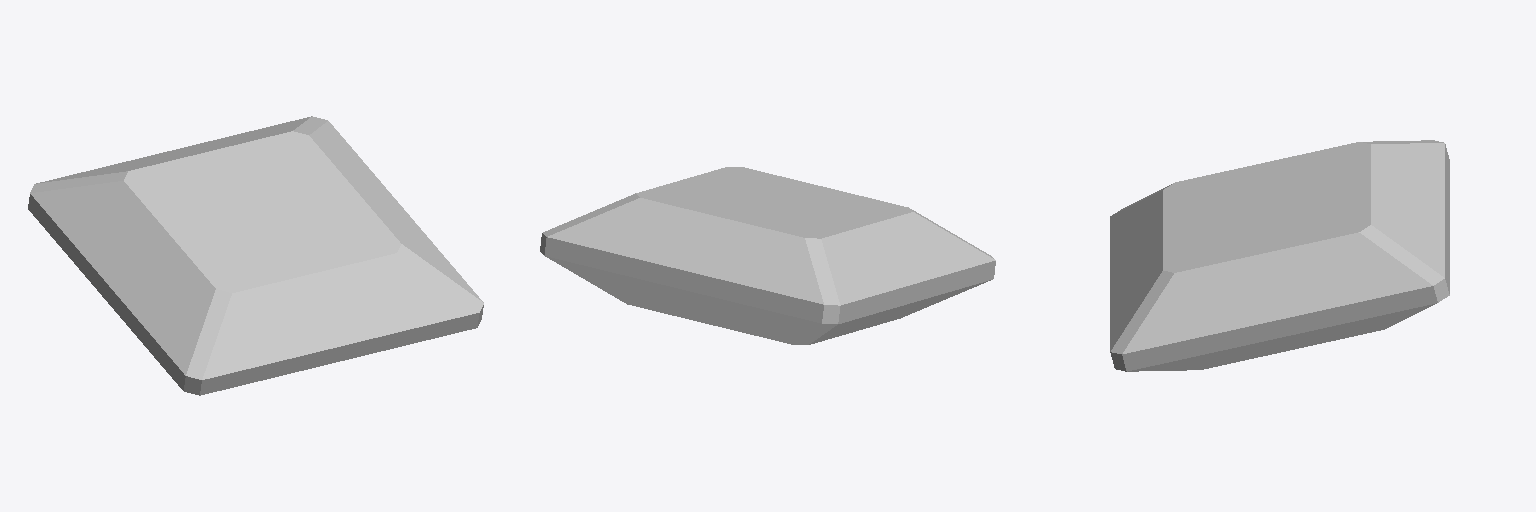
Rendered from purple.obj.
The picture shows the model from 3 angles: view 1: azimuth 30°, elevation 25°; view 2: azimuth 150°, elevation 25°; view 3: azimuth 270°, elevation 25°; orthographic projection.
Parts seen in each view (by area): view 1: Gemstone_05; view 2: Gemstone_05; view 3: Gemstone_05.
Part boxes in pixels (left/top/right/bottom): Gemstone_05: left=28, top=116, right=483, bottom=395; Gemstone_05: left=540, top=167, right=995, bottom=344; Gemstone_05: left=1110, top=140, right=1449, bottom=371.
Bounding box in the file's own units: 0.8886 × 0.4071 × 0.8753.